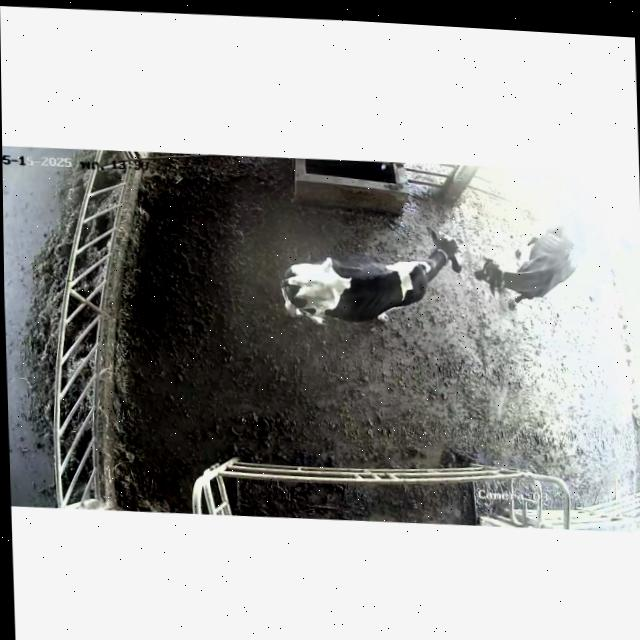stand: (280, 228, 461, 324), (474, 218, 587, 303)
